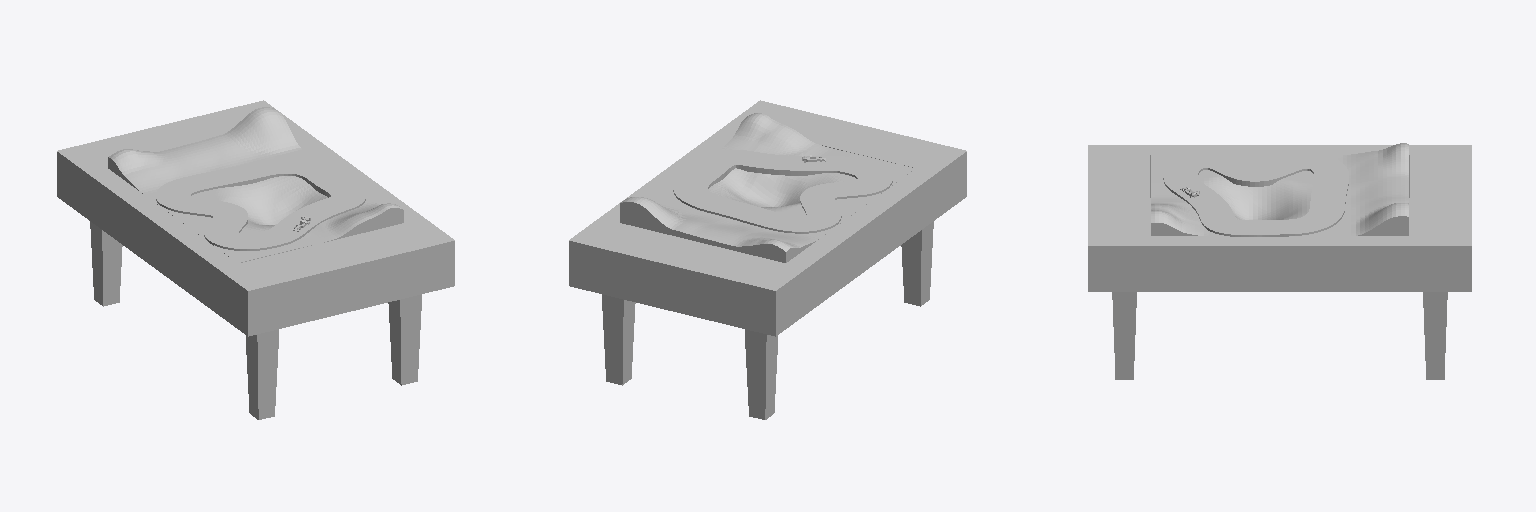
Rendered from NewestTisch48.obj.
3 renders of one model, left to right at view 1: azimuth 30°, elevation 25°; view 2: azimuth 150°, elevation 25°; view 3: azimuth 270°, elevation 25°, orthographic.
Parts seen in each view (by area): view 1: Tischplatte_wood_table_001, Landschaft_aerial_grass_rock, off, Bein1_wood_table_001, Bein4_wood_table_001.003, Bein3_wood_table_001.002; view 2: Tischplatte_wood_table_001, Landschaft_aerial_grass_rock, off, Bein2_wood_table_001.001, Bein3_wood_table_001.002, Bein4_wood_table_001.003; view 3: Tischplatte_wood_table_001, Landschaft_aerial_grass_rock, off, Bein1_wood_table_001, Bein2_wood_table_001.001.
Part boxes in pixels (x1,y1,x2,y2): Tischplatte_wood_table_001: (57,100,454,336); Landschaft_aerial_grass_rock: (108,107,403,262); off: (156,159,365,250); Bein1_wood_table_001: (388,294,421,385); Bein4_wood_table_001.003: (246,329,278,419); Bein3_wood_table_001.002: (90,221,122,306); Tischplatte_wood_table_001: (569,100,966,336); Landschaft_aerial_grass_rock: (620,113,915,262); off: (673,150,892,233); Bein2_wood_table_001.001: (602,294,635,385); Bein3_wood_table_001.002: (745,329,777,419); Bein4_wood_table_001.003: (901,221,933,306); Tischplatte_wood_table_001: (1088,145,1471,291); Landschaft_aerial_grass_rock: (1151,143,1408,235); off: (1163,153,1348,236); Bein1_wood_table_001: (1112,292,1136,379); Bein2_wood_table_001.001: (1423,292,1447,379).
Size of the model in its own units: 5 by 3.91 by 8.